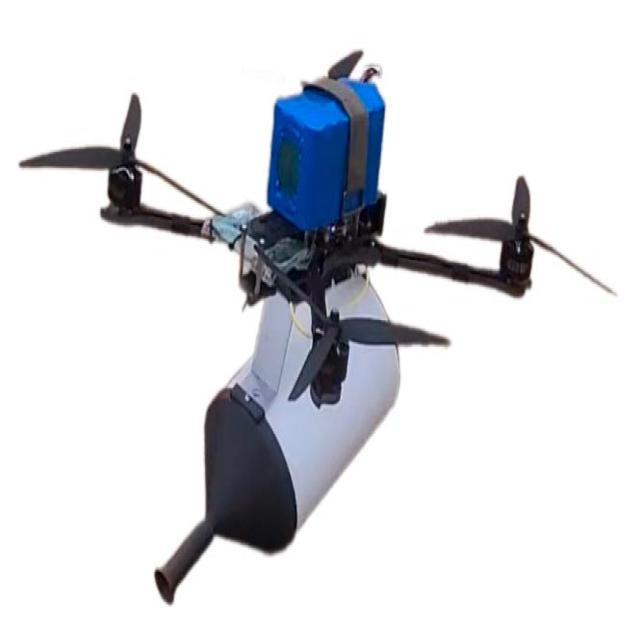drone: (16, 45, 616, 609)
